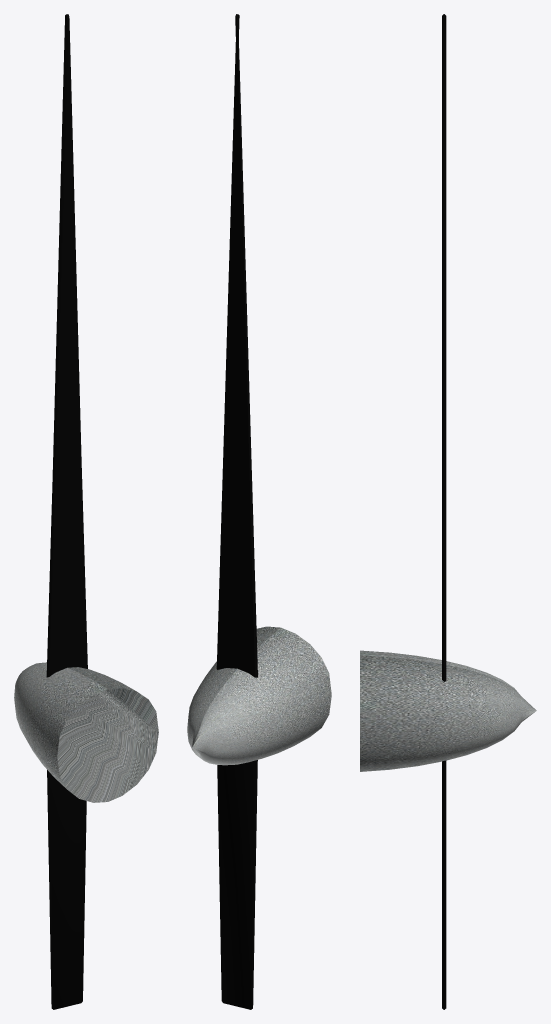
3 views of the same model, side by side, from view 1: azimuth 30°, elevation 25°; view 2: azimuth 150°, elevation 25°; view 3: azimuth 270°, elevation 25° (orthographic).
Visible parts, largest first — view 1: 針, 針の軸; view 2: 針, 針の軸; view 3: 針の軸, 針.
Part boxes in pixels (x1,y1,x2,y2): 針: (46, 14, 87, 1009); 針の軸: (14, 662, 158, 802); 針: (216, 14, 257, 1009); 針の軸: (187, 626, 331, 765); 針の軸: (360, 650, 536, 771); 針: (442, 14, 446, 1009).
Bounding box in the file's own units: 12.33 × 115 × 18.64.
2 materials, 1 textured.
